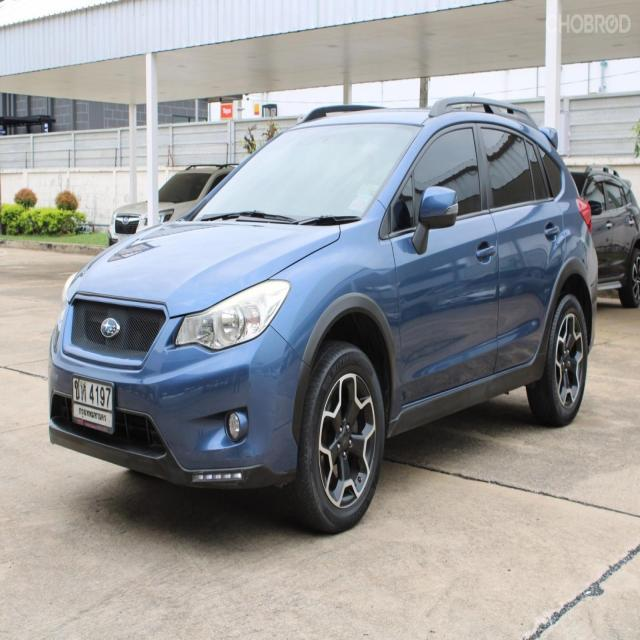license_plate: (70, 372, 116, 437)
